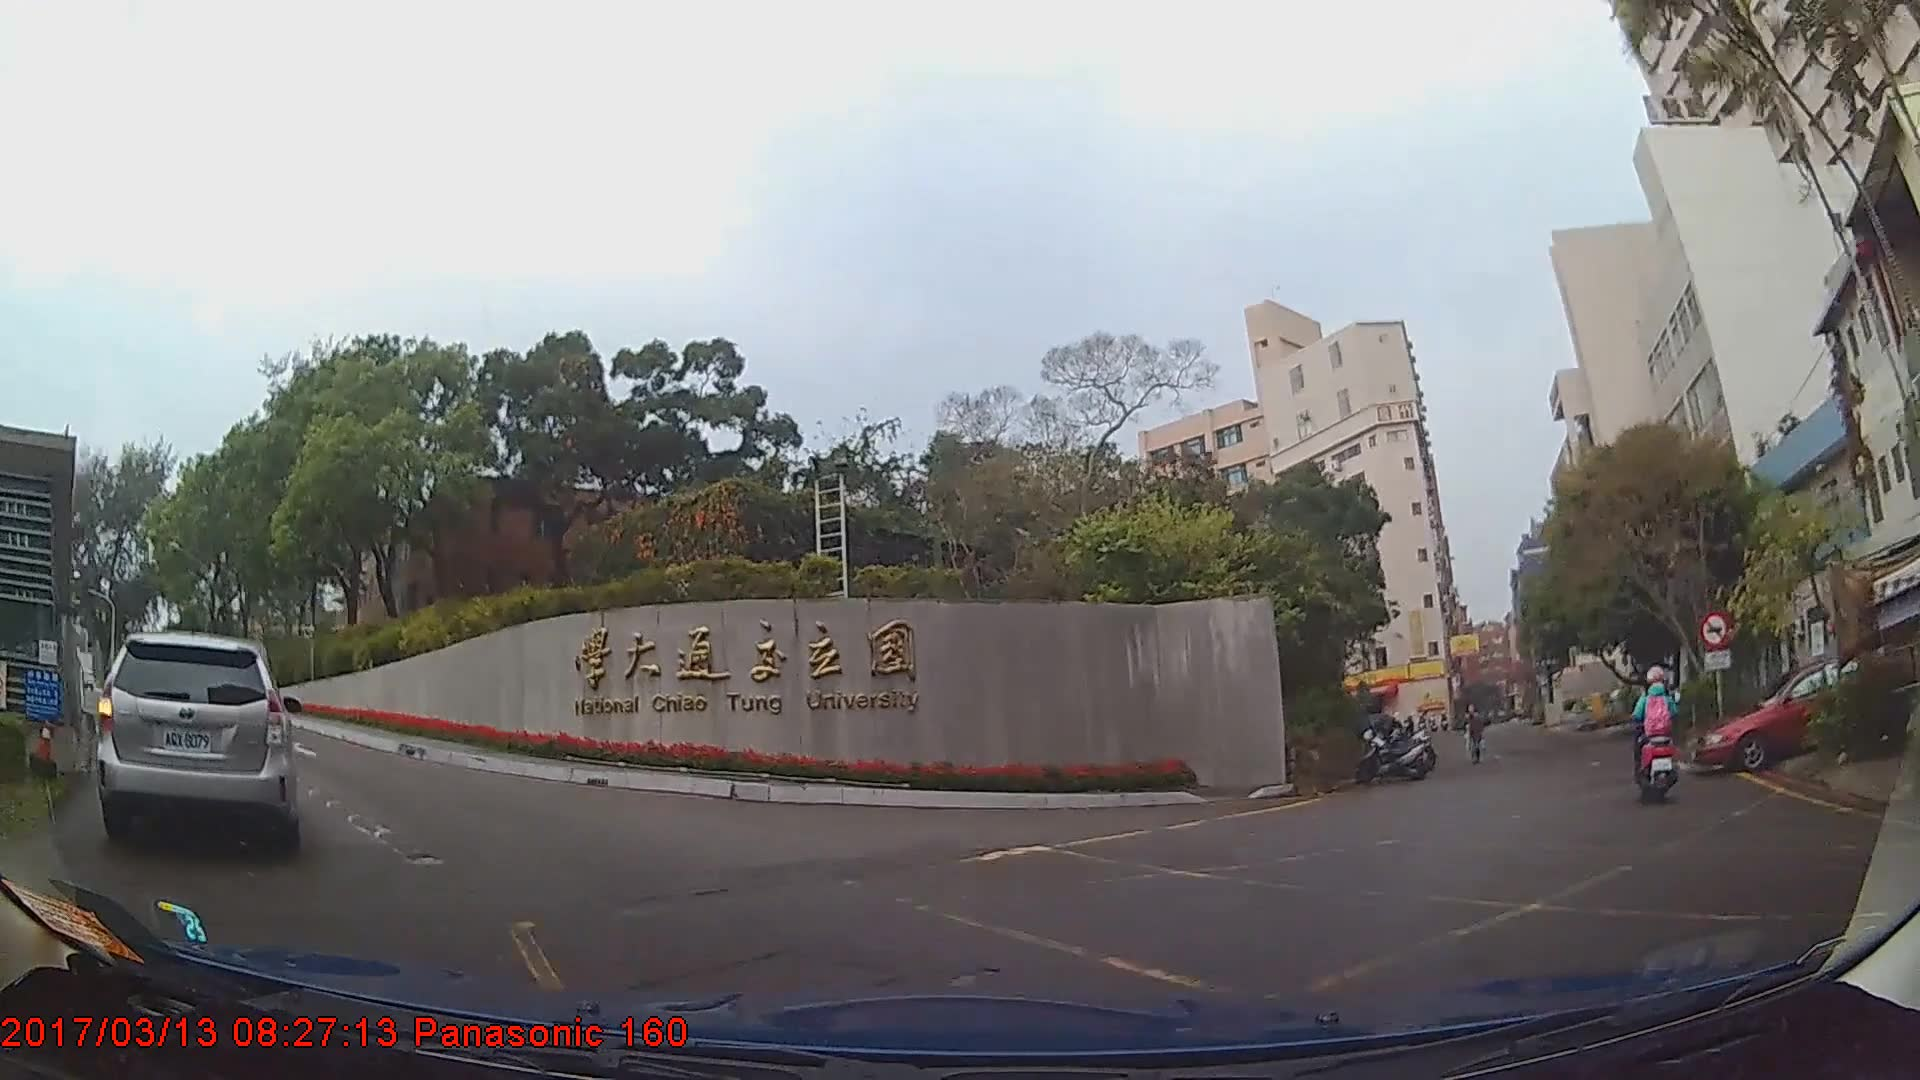pedestrian: (1460, 705, 1488, 766)
rider: (1637, 663, 1683, 806)
vehicle: (97, 626, 301, 850), (1690, 660, 1894, 777)
